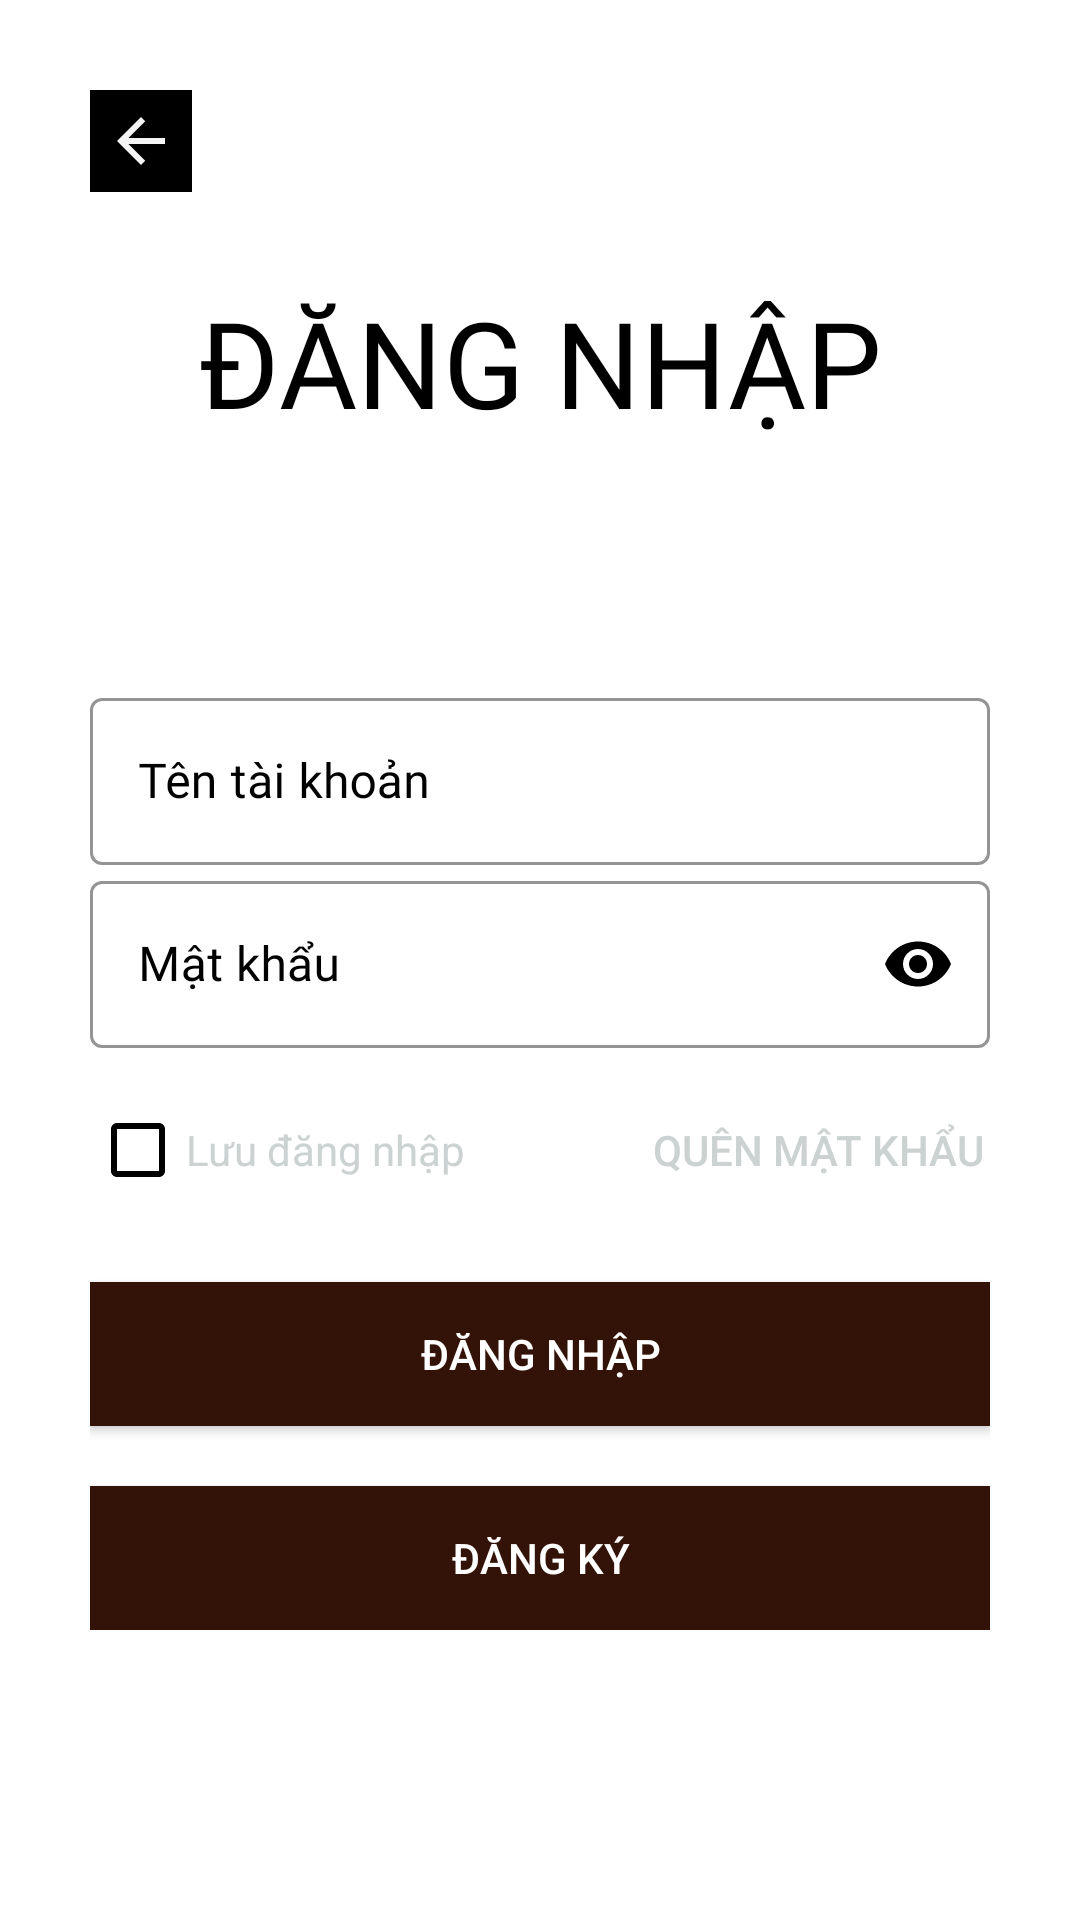

Icon bounding boxes for this 1080w x 1920h phone screenshot, format detection(x1, y1, x2, y2):
arrow back: detection(90, 90, 192, 192)
